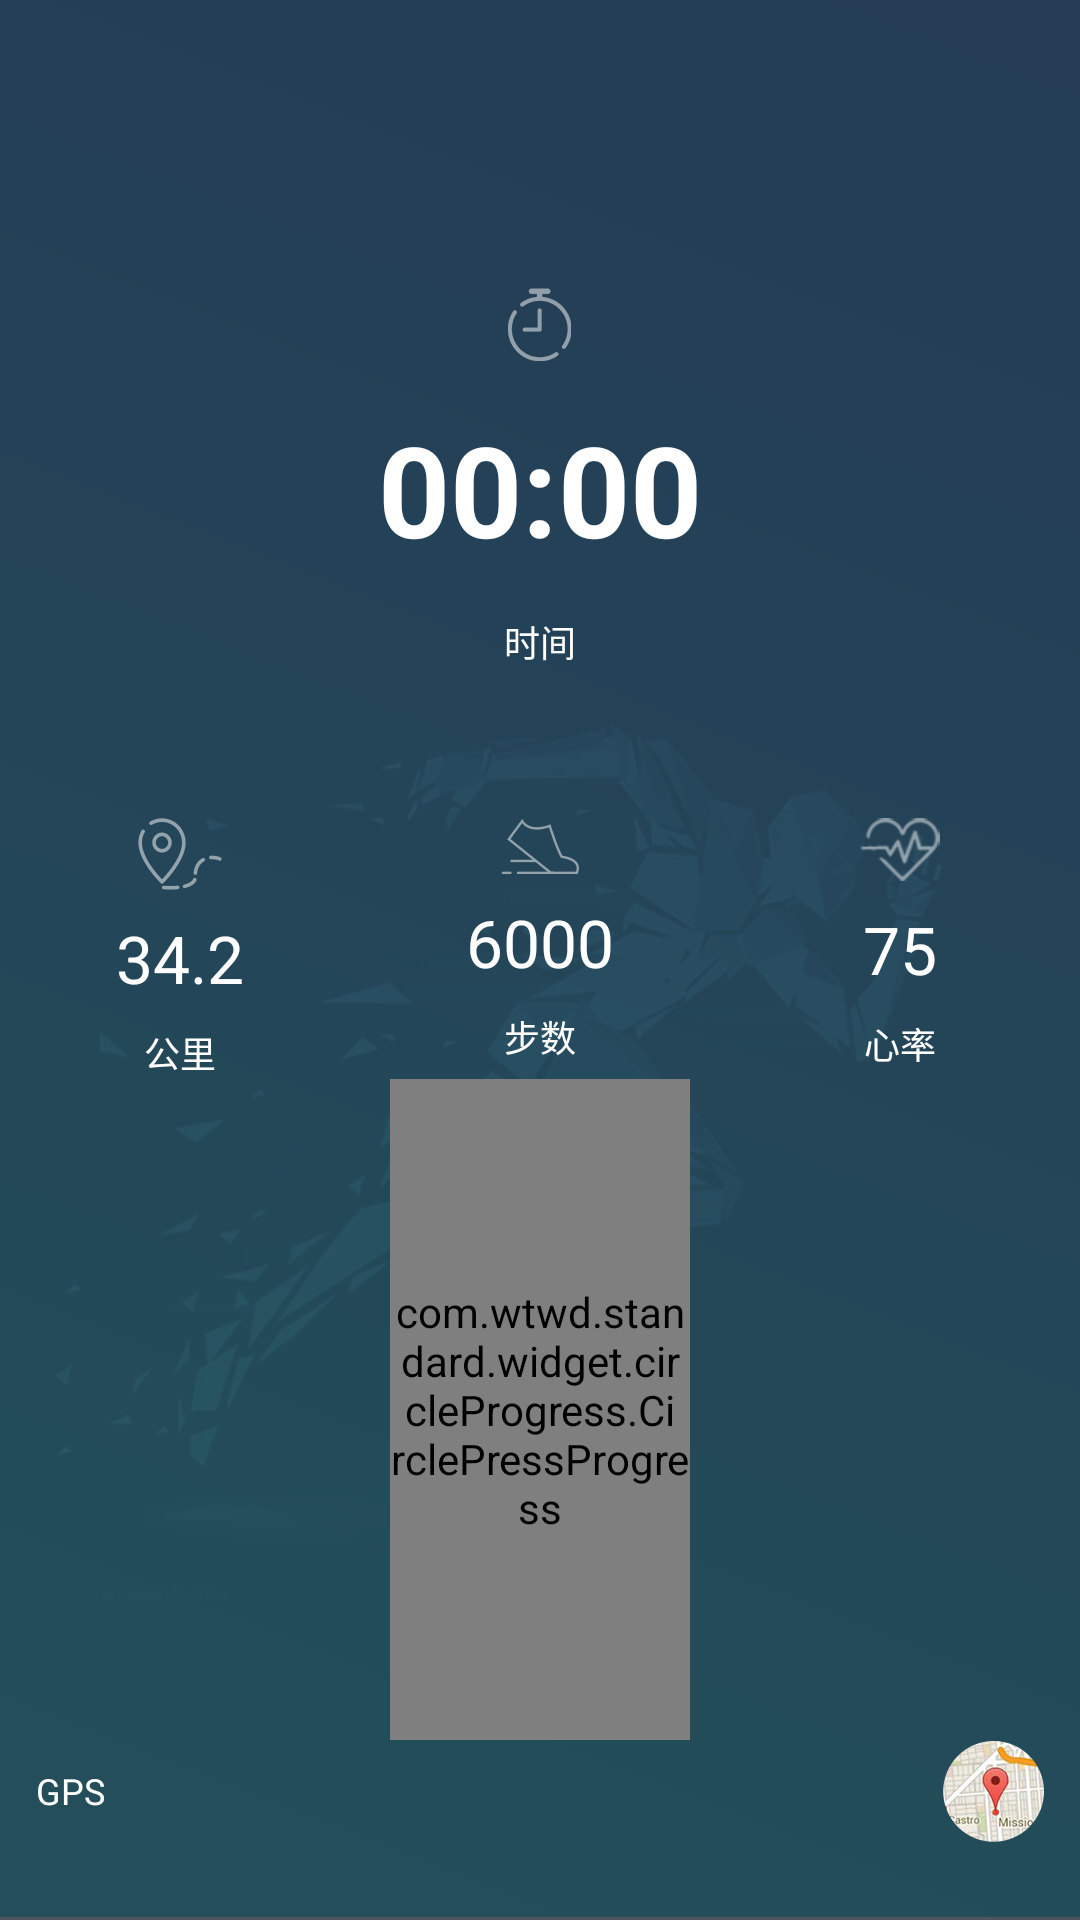

Point at icon controls on the screen. Image size 1080*1920, points as [x,y].
out door heart: [900,849]
out door km: [180,854]
out door map: [993,1791]
out door step: [540,846]
out door timing: [539,324]
